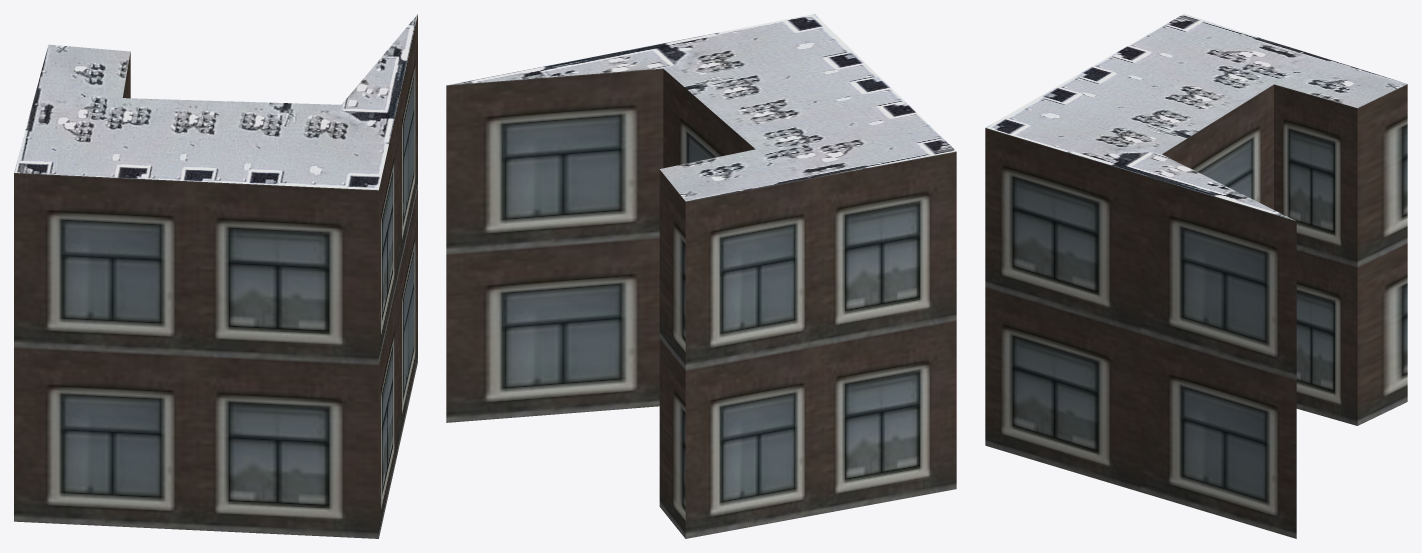
The model's file is ResTex__3232.fbx.
The picture shows the model from 3 angles, left to right: view 1: azimuth 30°, elevation 25°; view 2: azimuth 150°, elevation 25°; view 3: azimuth 270°, elevation 25°; orthographic projection. The views are drawn at different scales.
Parts seen in each view (by area): view 1: CityEngineMaterial_16_m, CityEngineMaterial_15_m; view 2: CityEngineMaterial_16_m, CityEngineMaterial_15_m; view 3: CityEngineMaterial_16_m, CityEngineMaterial_15_m.
Boxes of the visible parts, x1,y1,x2,y2 form: CityEngineMaterial_16_m: (14,14,417,538); CityEngineMaterial_15_m: (14,14,417,190); CityEngineMaterial_16_m: (446,68,956,538); CityEngineMaterial_15_m: (448,14,956,201); CityEngineMaterial_16_m: (985,84,1407,538); CityEngineMaterial_15_m: (985,14,1406,220).
Size of the model in its own units: 8.39 by 6 by 7.23.
2 materials, 2 textured.
